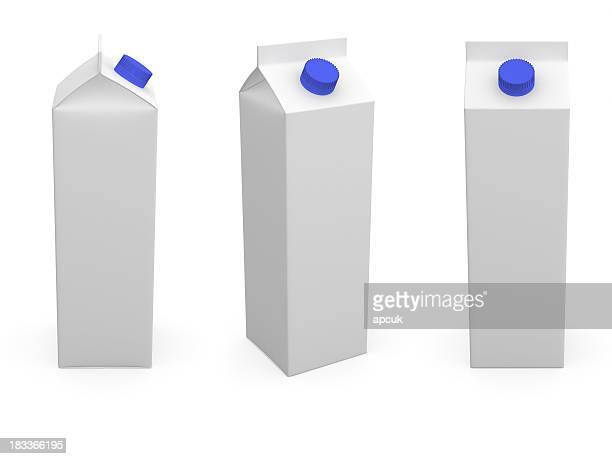carton: (218, 9, 379, 394), (449, 10, 592, 394), (28, 7, 168, 393)
